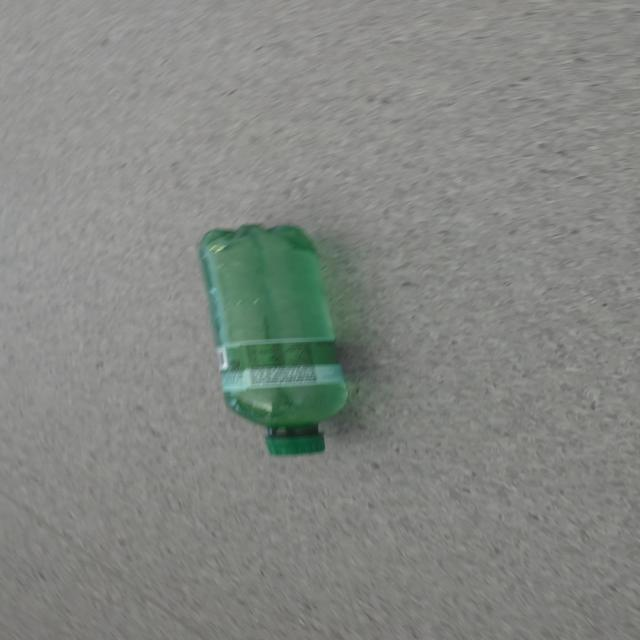bottle: (197, 222, 348, 456)
